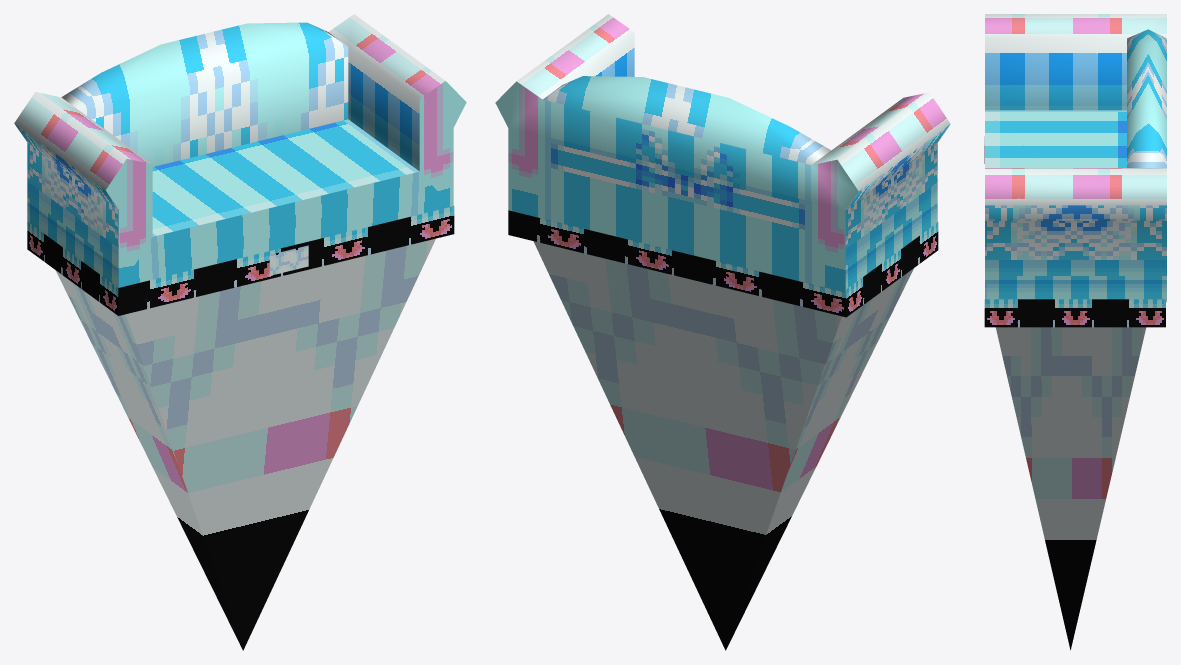
The picture shows the model from 3 angles, left to right: view 1: azimuth 30°, elevation 25°; view 2: azimuth 150°, elevation 25°; view 3: azimuth 270°, elevation 25°; orthographic projection.
Parts seen in each view (by area): view 1: 3866kg3_ser47; view 2: 3866kg3_ser47; view 3: 3866kg3_ser47.
Part boxes in pixels (left/top/right/bottom): 3866kg3_ser47: left=14, top=14, right=466, bottom=650; 3866kg3_ser47: left=495, top=14, right=950, bottom=650; 3866kg3_ser47: left=984, top=14, right=1166, bottom=650.
Bounding box in the file's own units: 1.92 × 2.99 × 0.8694.
Materials: 3 (3 with a texture image).
